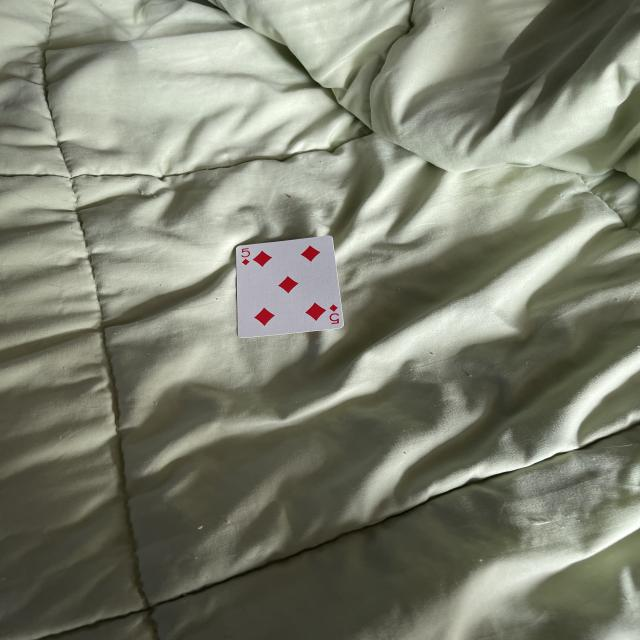5 of diamonds: (239, 237, 341, 338)
